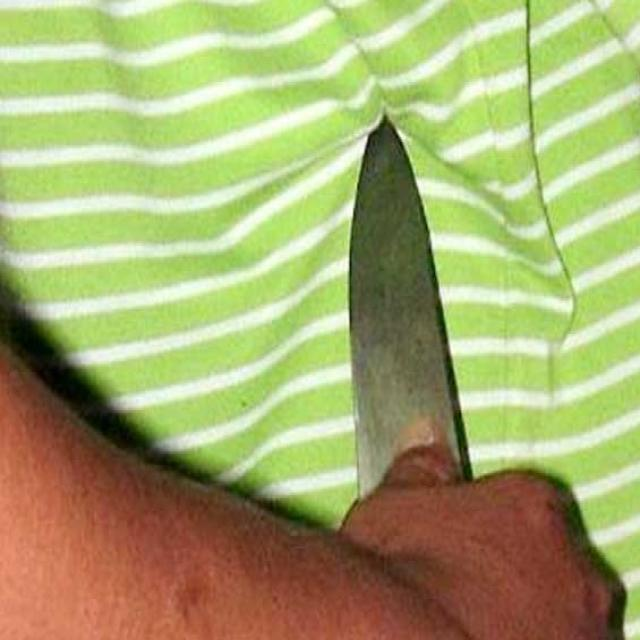knife: (346, 113, 478, 507)
